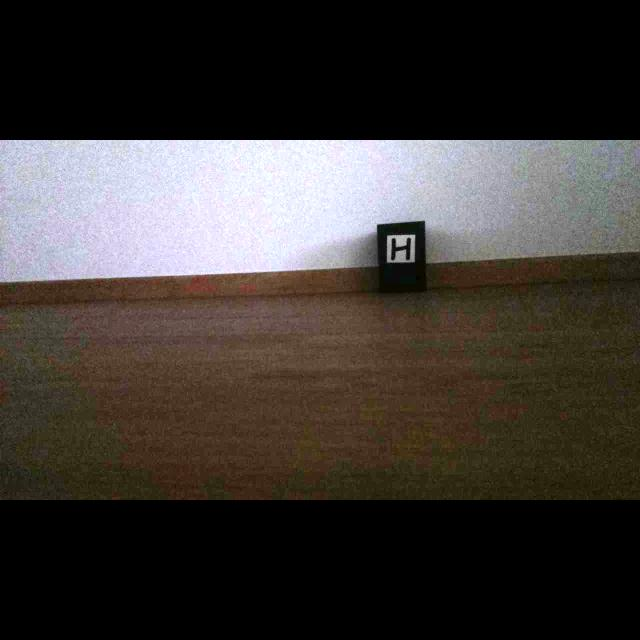H: (391, 237, 411, 260)
